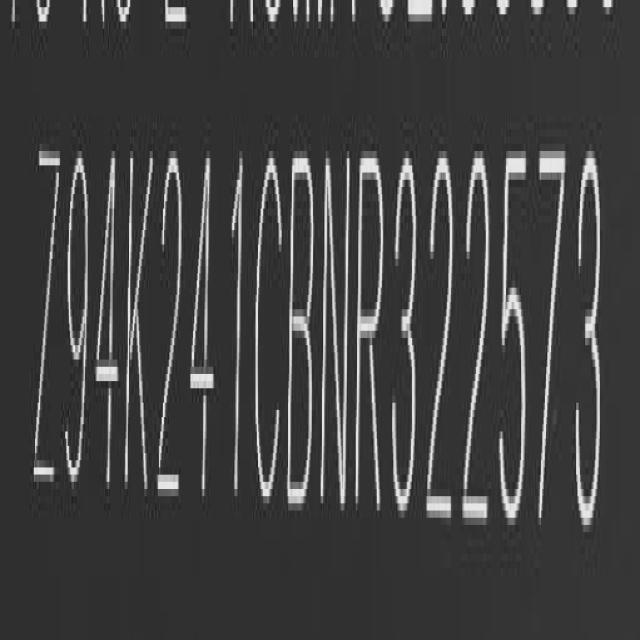1: (225, 149, 247, 510)
2: (460, 149, 491, 537), (427, 148, 456, 533), (155, 140, 184, 509)
3: (574, 151, 608, 536), (394, 147, 424, 522)
4: (192, 146, 219, 510), (95, 143, 122, 501)
5: (500, 144, 531, 536)
7: (538, 144, 570, 542)
9: (64, 141, 91, 504)
B: (287, 149, 316, 518)
C: (253, 150, 283, 510)
K: (124, 140, 154, 507)
N: (321, 146, 349, 513)
R: (354, 148, 388, 516)
Z: (34, 139, 63, 504)
